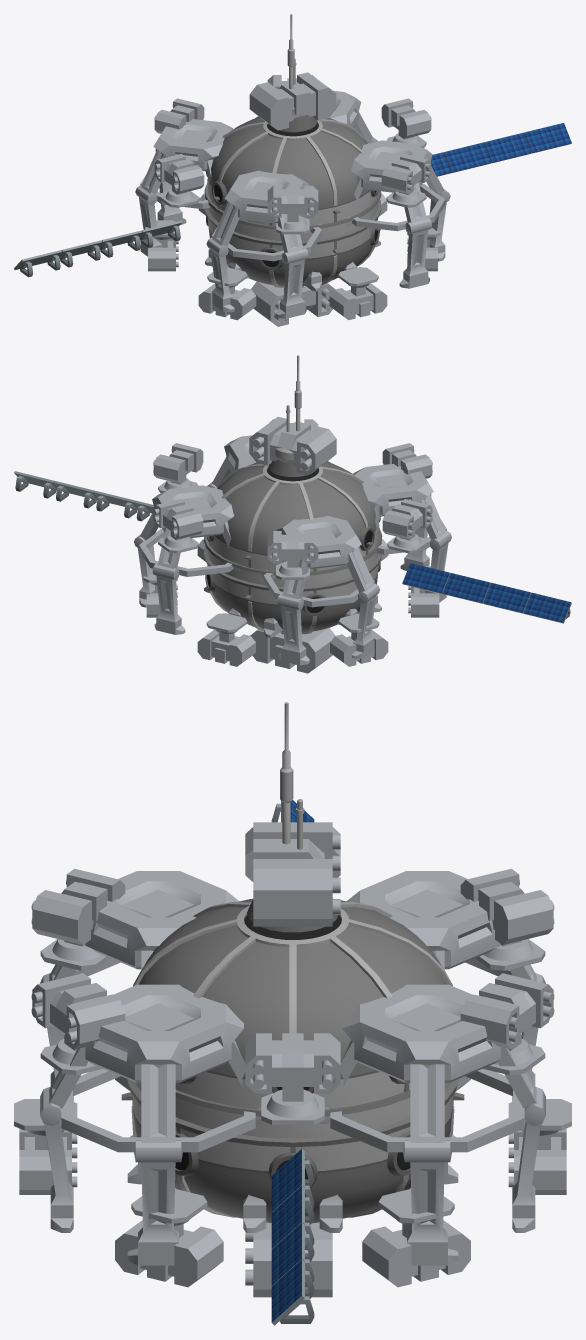
File: bastion.glb
3 renders of one model, top to bottom at view 1: azimuth 30°, elevation 25°; view 2: azimuth 150°, elevation 25°; view 3: azimuth 270°, elevation 25°, orthographic. The views are drawn at different scales.
Parts seen in each view (by area): view 1: q_base.2, kk_tower.8, q_base.4, kk_tower.9, kk_tower.7, k_turret.27, k_turret.22, k_turret.16, k_turret.15, k_turret.17, k_turret.28, k_turret.11 (+13 smaller); view 2: q_base.2, kk_tower.7, kk_tower.6, q_base.4, kk_tower.8, k_turret.27, k_turret.19, k_turret.14, k_turret.15, k_turret.13, k_turret.28, k_turret.11 (+13 smaller); view 3: q_base.2, kk_tower.9, kk_tower.6, q_base.4, kk_tower.8, kk_tower.7, k_turret.27, k_turret.11, k_turret.14, k_turret.16, k_turret.13, k_turret.17 (+10 smaller).
Part boxes in pixels (x1,y1,x2,y2): q_base.2: (204,116,381,253); kk_tower.8: (206,170,324,318); q_base.4: (204,170,381,287); kk_tower.9: (344,140,450,288); kk_tower.7: (135,119,233,266); k_turret.27: (249,72,336,130); k_turret.22: (329,267,387,320); k_turret.16: (267,185,318,234); k_turret.15: (154,154,204,207); k_turret.17: (381,154,431,207); k_turret.28: (250,281,335,326); k_turret.11: (381,98,431,147); q_base.2: (203,461,381,599); kk_tower.7: (261,516,379,665); kk_tower.6: (134,485,241,634); q_base.4: (203,516,382,634); kk_tower.8: (353,464,451,612); k_turret.27: (249,417,336,475); k_turret.19: (197,613,255,666); k_turret.14: (267,531,318,579); k_turret.15: (382,499,432,553); k_turret.13: (153,499,203,553); k_turret.28: (250,628,335,673); k_turret.11: (153,443,203,492); q_base.2: (121,898,464,1153); kk_tower.9: (40,984,266,1265); kk_tower.6: (319,984,545,1265); q_base.4: (131,1082,454,1223); kk_tower.8: (40,871,239,1137); kk_tower.7: (346,871,545,1137); k_turret.27: (253,822,340,926); k_turret.11: (245,1033,340,1124); k_turret.14: (460,868,554,970); k_turret.16: (31,868,125,970); k_turret.13: (460,973,554,1075); k_turret.17: (31,973,125,1075).
Bounding box in the file's own units: 12.53 × 6.58 × 5.87.
4 materials, 3 textured.
